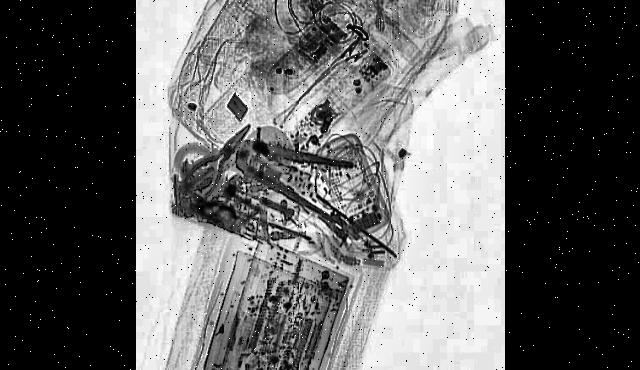Pliers: (231, 121, 353, 229), (179, 104, 253, 214)
